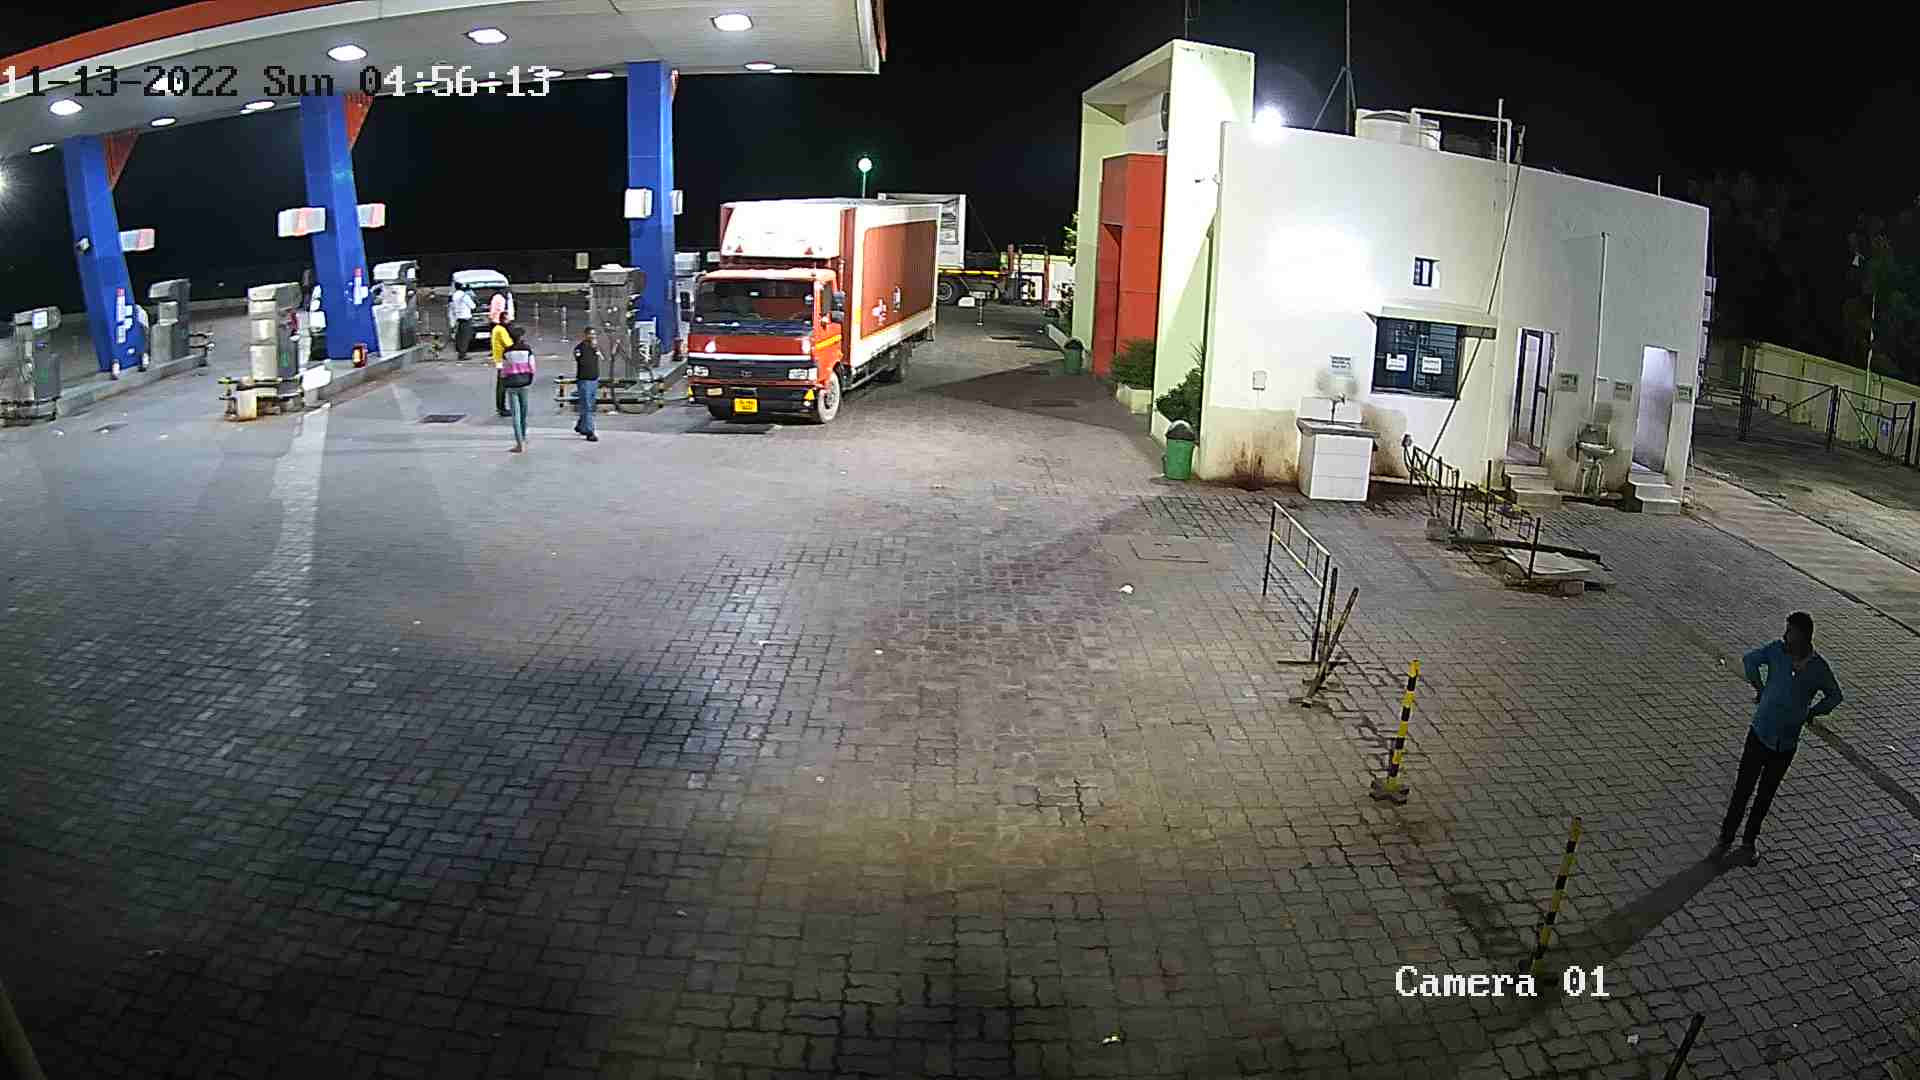Car: (440, 264, 527, 353), (294, 273, 335, 365)
HMV: (665, 187, 947, 433), (872, 186, 1048, 309)
